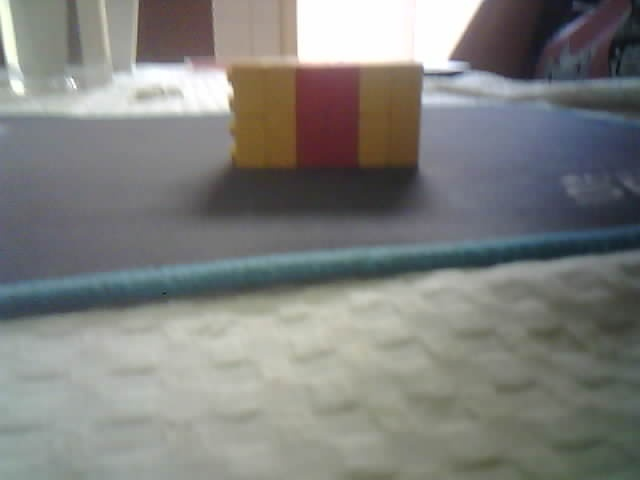lego: (223, 59, 425, 173)
